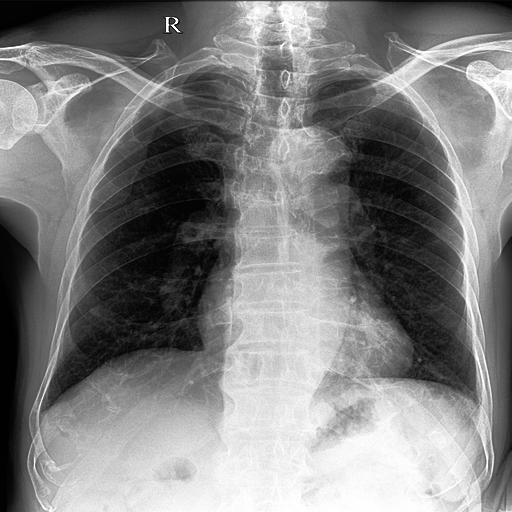Cardiomegaly: (30, 44, 233, 407), (295, 57, 482, 394), (364, 229, 460, 378), (98, 282, 155, 345), (461, 381, 488, 413)
Consolidation: (275, 119, 356, 213)
Lung Opacity: (83, 301, 110, 322)
Pneumothorax: (119, 130, 187, 159)
Pulmonary fibrosis: (83, 305, 102, 319)
